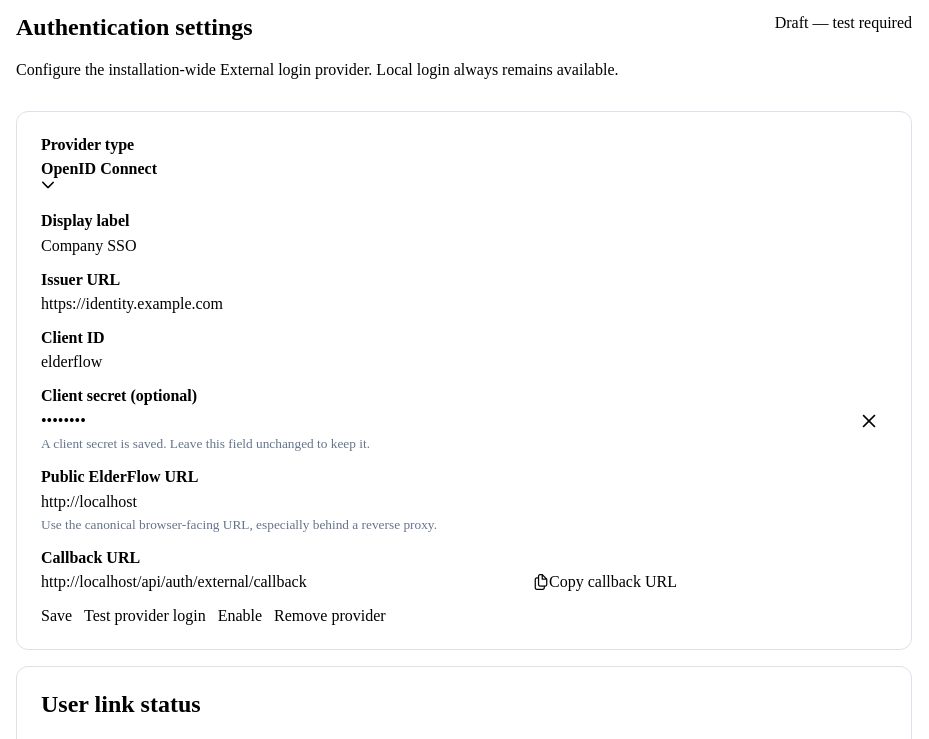
Test case: AuthenticationSettingsView › shows saved placeholder dots with the real Password control and reveals only a typed replacement
This screenshot has width=929, height=739.
Type "new-secret" into the password field with id "client-secret" at (464,421), box x1=41 y1=412 x2=887 y2=430
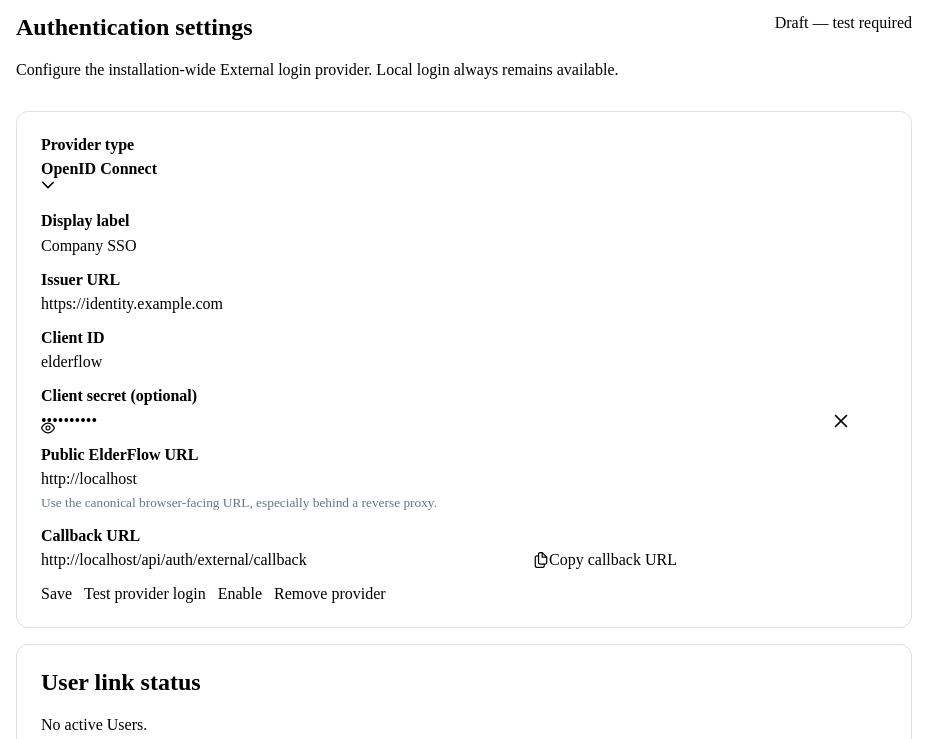
Click the 2nd icon at (48,428), box x1=41 y1=421 x2=55 y2=435
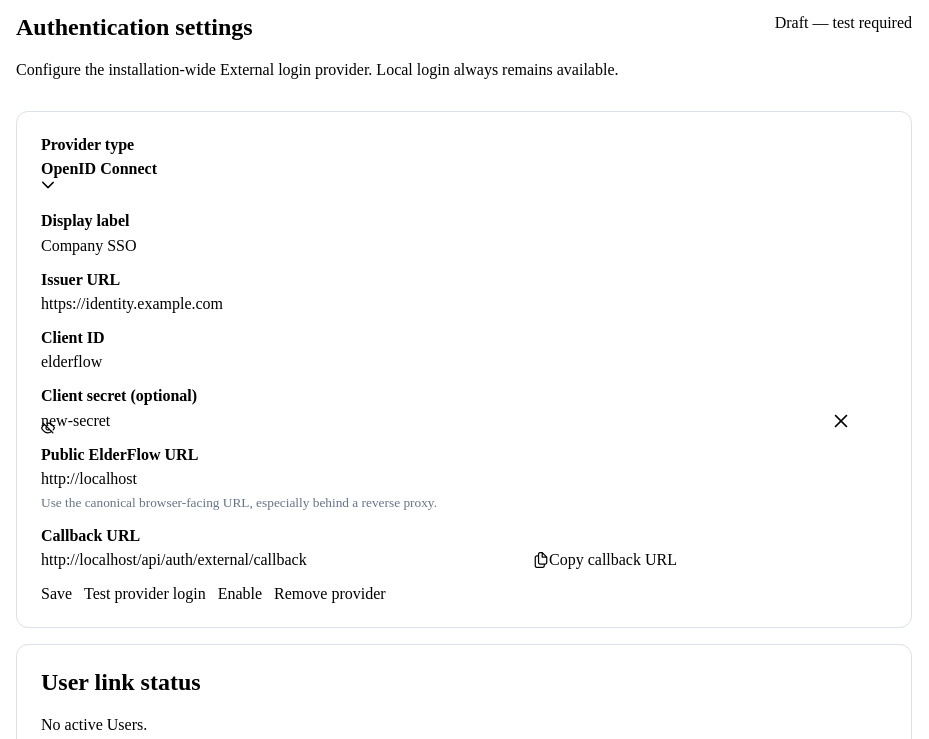
Now the field with id "client-secret" shows its text, box x1=41 y1=412 x2=887 y2=430
Click the button named "Clear client secret" at (841,421), box x1=827 y1=412 x2=855 y2=430
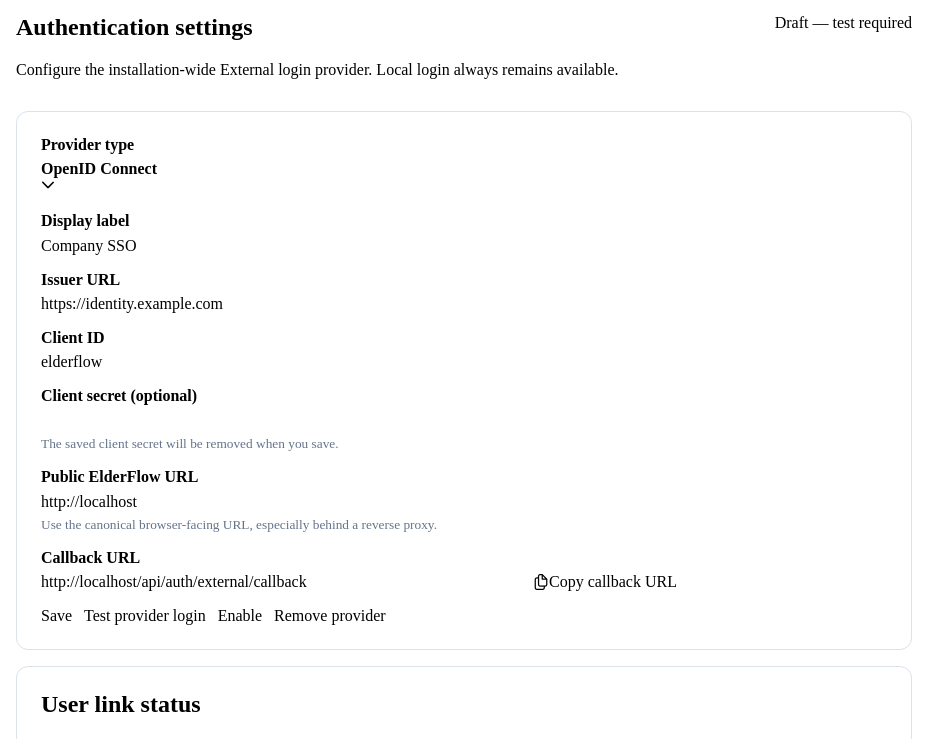
Expected: the field with id "client-secret" is empty, x1=41 y1=412 x2=887 y2=430
Now the text "The saved client secret will be removed when you save." is shown, box x1=41 y1=436 x2=339 y2=451
